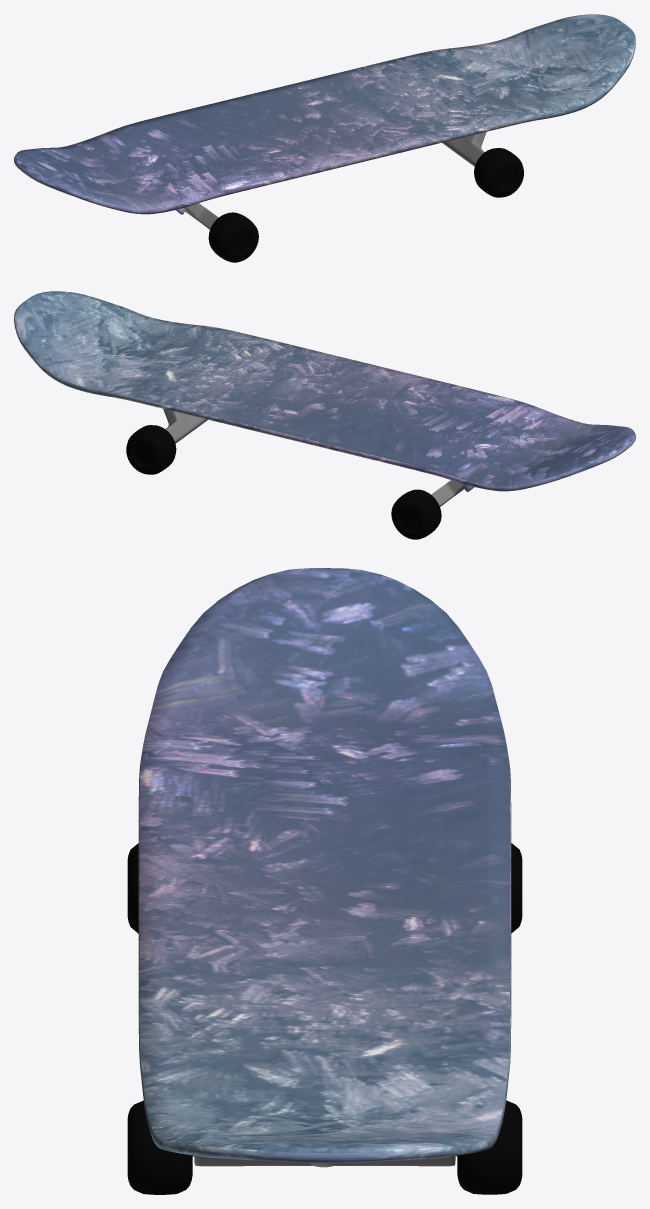
File: Bussiness_Run_Skateboarding_Models.fbx
The picture shows the model from 3 angles, top to bottom: view 1: azimuth 30°, elevation 25°; view 2: azimuth 150°, elevation 25°; view 3: azimuth 270°, elevation 25°; orthographic projection. The views are drawn at different scales.
Visible parts, largest first — view 1: skateboard; view 2: skateboard; view 3: skateboard.
Part boxes in pixels (left/top/right/bottom): skateboard: left=14, top=14, right=635, bottom=262; skateboard: left=14, top=291, right=635, bottom=539; skateboard: left=127, top=568, right=522, bottom=1194.
Size of the model in its own units: 16890 by 2720 by 4808.
Materials: 3 (1 with a texture image).
